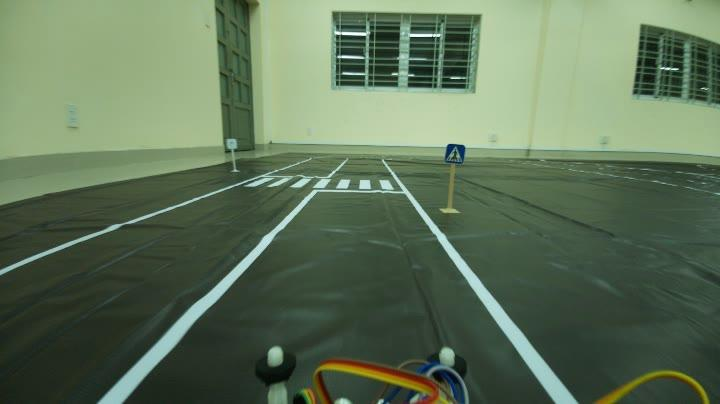crosswalk: (441, 142, 467, 169)
